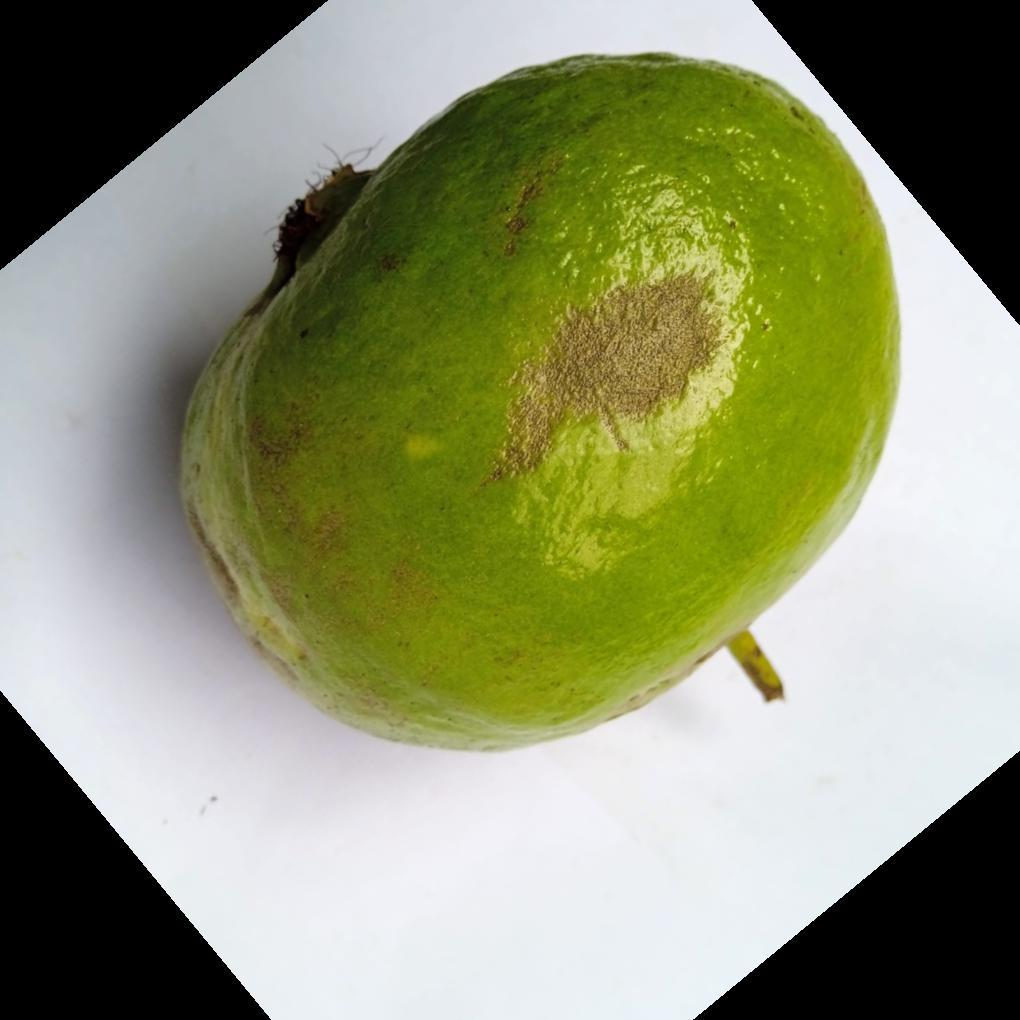FreshGuava: (177, 54, 903, 757)
